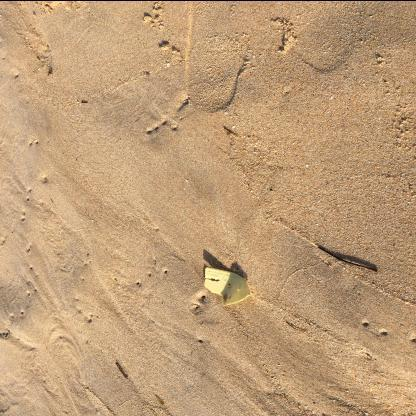kopuk: (206, 267, 252, 306)
